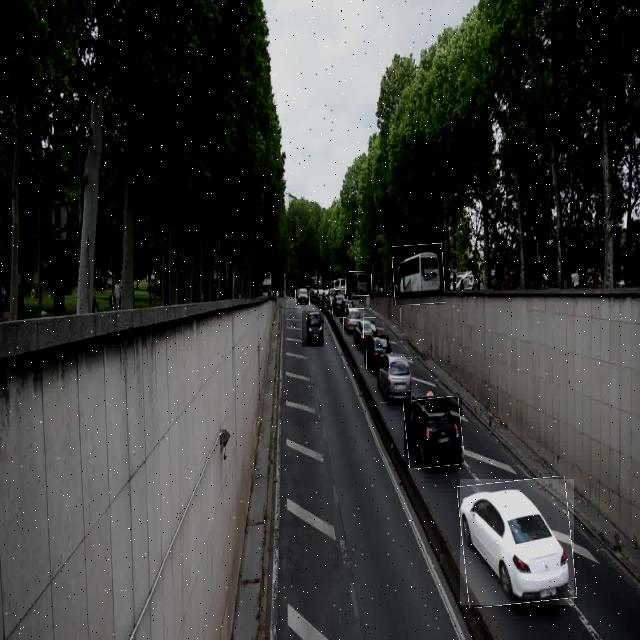Bus: (393, 244, 445, 305), (346, 272, 372, 296)
Car: (460, 479, 574, 605), (404, 397, 462, 468), (380, 357, 412, 403), (302, 311, 324, 347), (366, 335, 389, 369), (356, 317, 376, 350), (344, 308, 364, 339), (331, 290, 349, 318), (296, 286, 310, 308)
